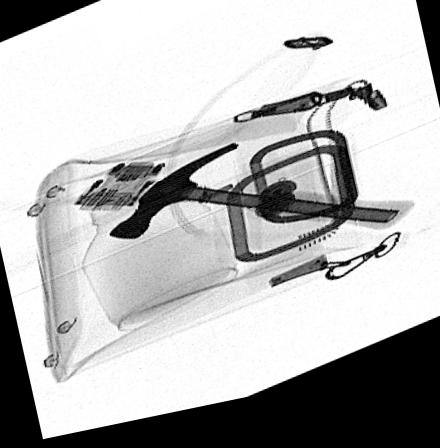Hammer: (106, 150, 416, 247)
